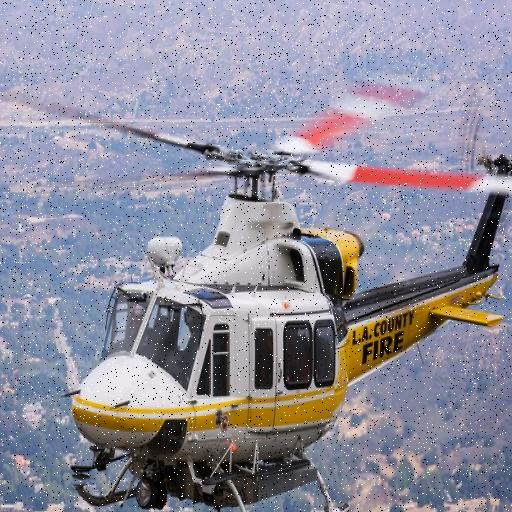helicopter: (58, 83, 512, 512)
